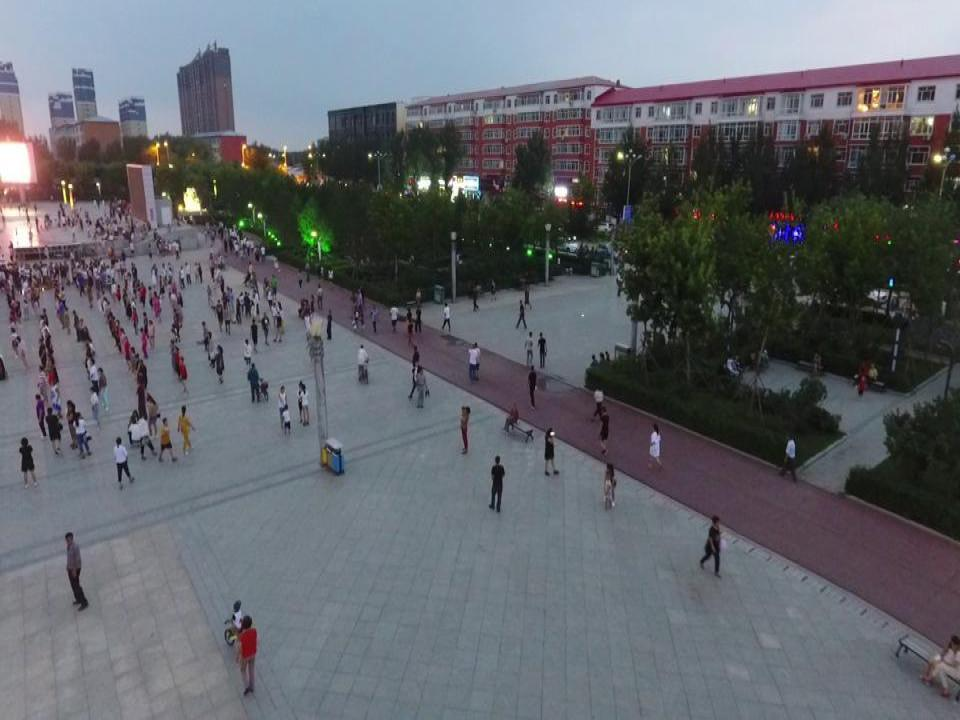car: (595, 237, 622, 264), (556, 238, 581, 254), (590, 220, 615, 235), (283, 404, 292, 436)
